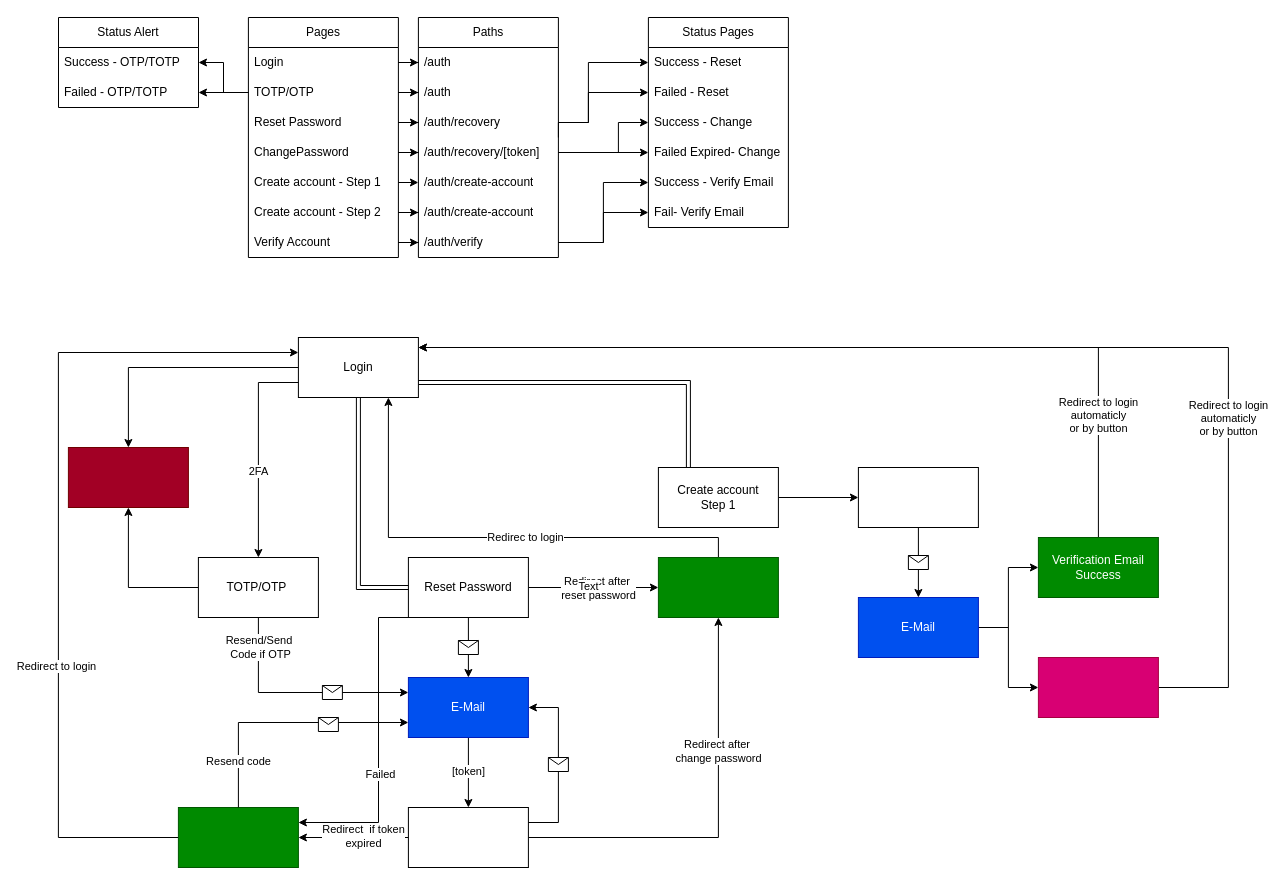
The diagram is 1286 pixels wide and 885 high, and some of its shapes have lost their labels. The centre of each missing label's shape, as x and y in pixels:
"Change Password" belongs at point 467,837.
"Create account Step 2" belongs at point 917,497.
"Failed Expired token" belongs at point 237,837.
"Login to App" belongs at point 127,477.
"Success" belongs at point 717,587.
"Verification Email Failed" belongs at point 1097,687.
